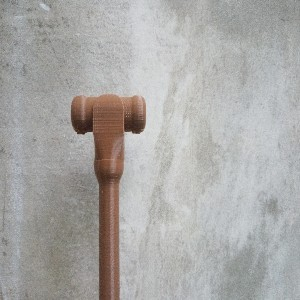palu: (71, 93, 147, 300)
